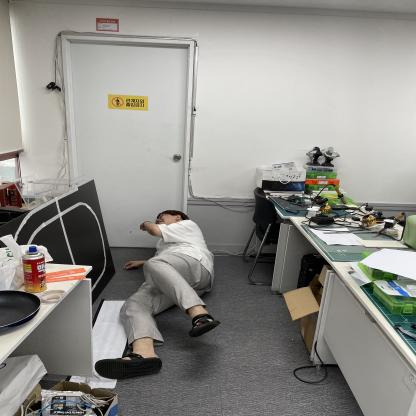fall: (118, 206, 219, 376)
